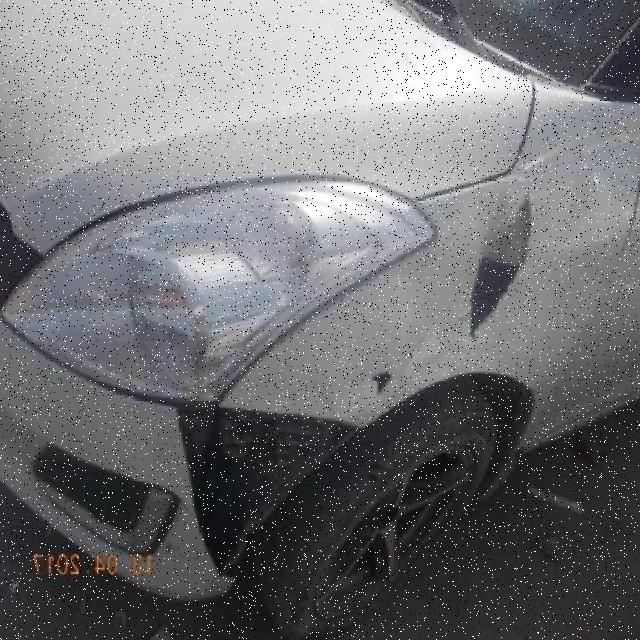damage: (164, 402, 361, 589), (463, 189, 539, 340), (366, 363, 394, 401)
